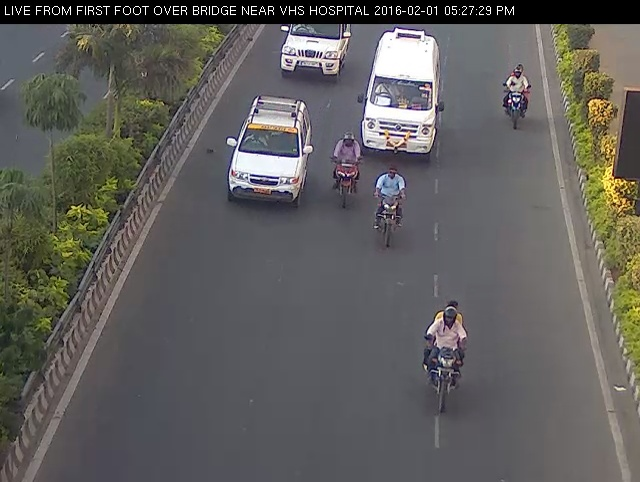Bus: (356, 26, 446, 169)
Car: (214, 93, 317, 210), (270, 11, 357, 88)
Person: (414, 299, 476, 412), (364, 154, 418, 259), (319, 123, 370, 210), (491, 56, 536, 140)
